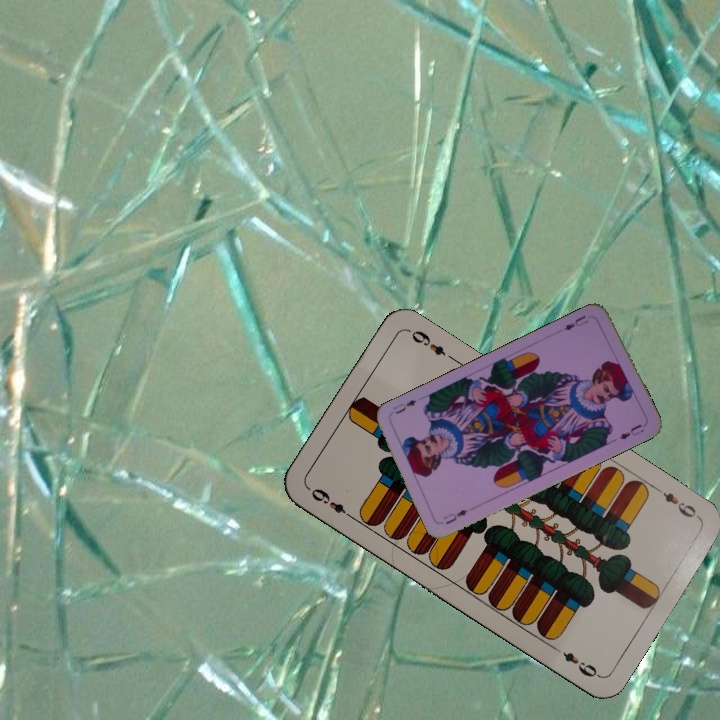E9: (650, 482, 702, 521), (307, 484, 357, 522)
EU: (439, 505, 470, 527), (560, 311, 590, 333)
